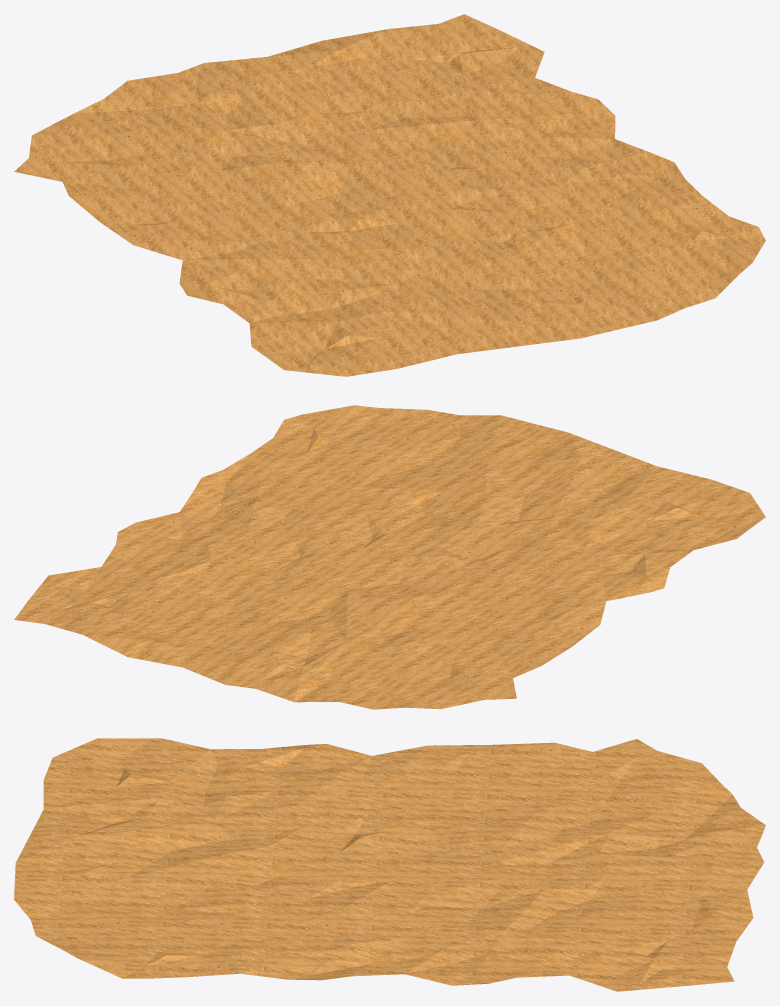
Rendered from land2.FBX.
The picture shows the model from 3 angles, top to bottom: view 1: azimuth 30°, elevation 25°; view 2: azimuth 150°, elevation 25°; view 3: azimuth 270°, elevation 25°; orthographic projection. The views are drawn at different scales.
Parts seen in each view (by area): view 1: Hedra001; view 2: Hedra001; view 3: Hedra001.
Boxes of the visible parts, x1,y1,x2,y2 form: Hedra001: (14, 14, 765, 376); Hedra001: (14, 405, 765, 709); Hedra001: (14, 738, 765, 991).
Bounding box in the file's own units: 200 × 2.76 × 250.
Materials: 1 (1 with a texture image).
